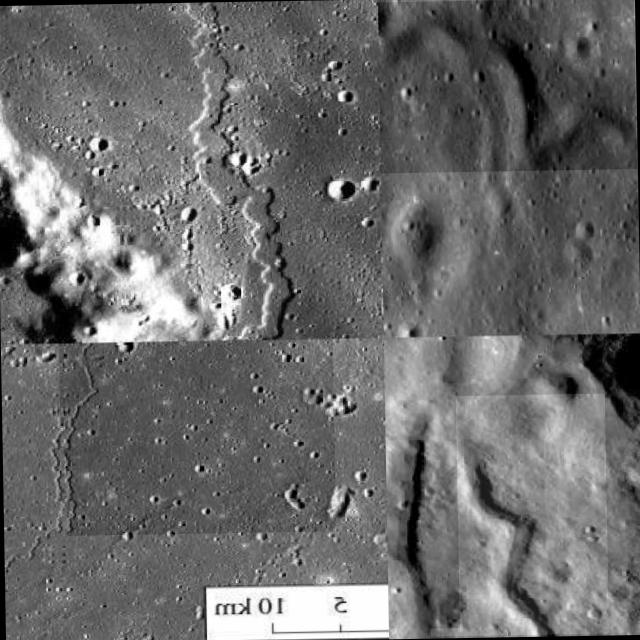rille: (122, 1, 298, 340), (59, 338, 336, 536), (377, 0, 636, 172), (426, 394, 608, 636), (384, 336, 459, 629), (1, 418, 68, 638)
